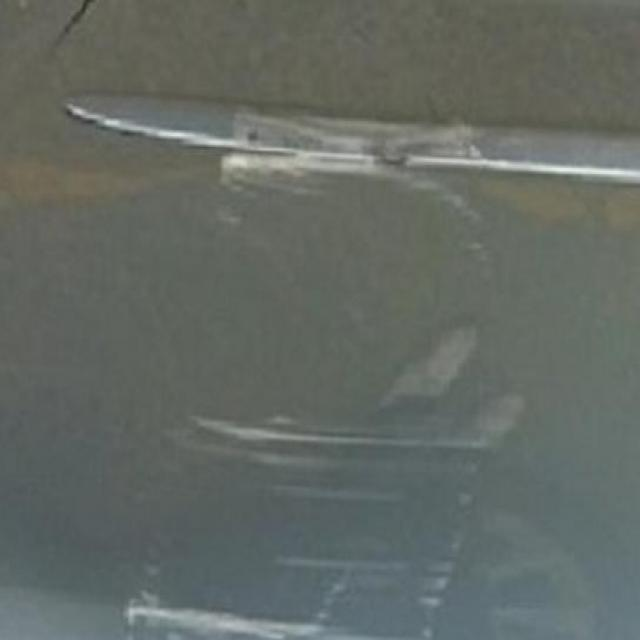scratch: (76, 83, 542, 640)
